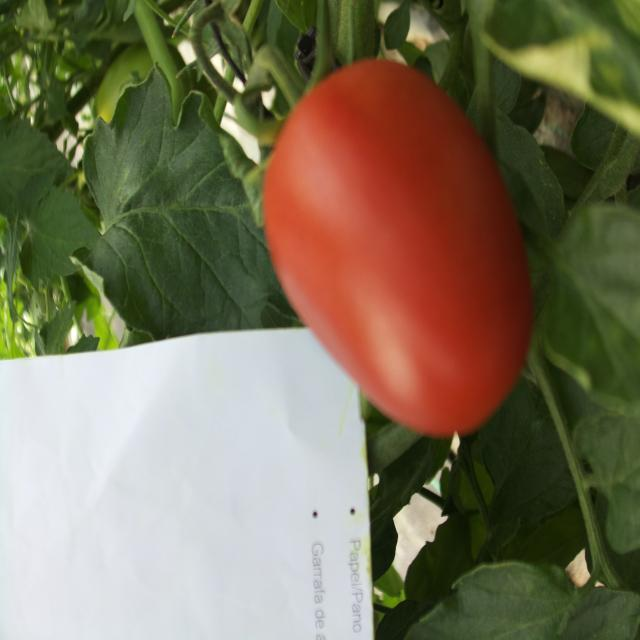kirmizi: (260, 49, 552, 446)
